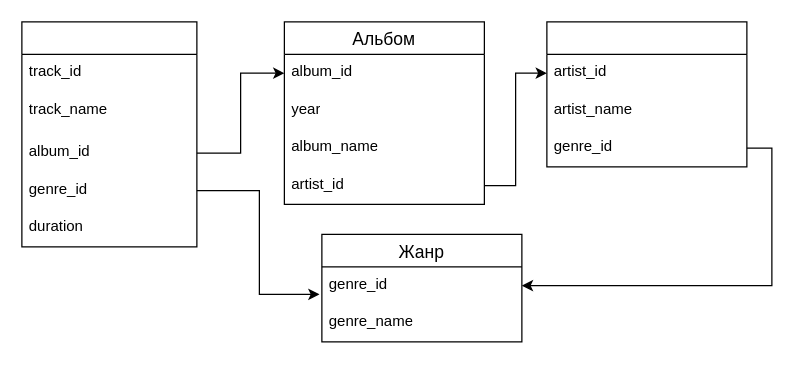
This 804x368 diagram has some shape labels left out. The shapes that lost their labels are listed below. From the top down, each one's box as (x1, y1, x2, y2) in pixels, then its label:
(546, 21, 747, 167): Исполнитель
(21, 21, 197, 247): Трэки
